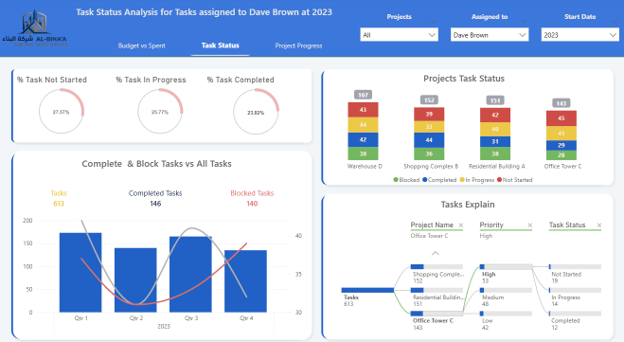

Layout of this report page (visuals, bound fields, positions):
{"tool":"powerbi","page":{"name":"Task Status","canvas":[1280,720],"ordinal":1},"visuals":[{"type":"shape","box":[0,0,1280,120],"z":0},{"type":"pageNavigator","box":[221,74.1,470.5,44.2],"z":1000},{"type":"shape","box":[20,137,612.1,166.3],"z":1000,"group":"g5"},{"type":"shape","box":[652.1,138.1,595.6,250.8],"z":1000,"group":"g2"},{"type":"shape","box":[20,304.5,612.5,399],"z":1000,"group":"g3"},{"type":"shape","box":[652.7,392.4,595.2,311.6],"z":1000,"group":"g4"},{"type":"cardVisual","fields":{"Data":["Measures_.Dynamic Task Status title"]},"box":[139.9,2.4,657.5,49.5],"z":2000},{"type":"shape","box":[23.3,135.7,627,168.3],"z":2000,"group":"g5"},{"type":"shape","box":[655.3,136.1,610.1,253.7],"z":2000,"group":"g2"},{"type":"shape","box":[23.3,301.4,627.4,403.7],"z":2000,"group":"g3"},{"type":"shape","box":[655.9,390,609.7,315.2],"z":2000,"group":"g4"},{"type":"lineClusteredColumnComboChart","fields":{"Category":["Calendar.Date.Variation.Date Hierarchy.Year","Calendar.Date.Variation.Date Hierarchy.Quarter","Calendar.Date.Variation.Date Hierarchy.Month"],"Y2":["Measures_.Completed Tasks","Measures_.# Blocked Tasks"],"Y":["Measures_.Tasks"]},"box":[48.3,439.1,579.1,252.1],"z":2000,"group":"g7"},{"type":"group","id":"g1","title":"Group 2","box":[731.7,28.3,548.3,91.7],"z":3000},{"type":"image","box":[0,0,154.7,120.9],"z":4000},{"type":"group","id":"g2","title":"Group 6","box":[652.1,136.1,613.1,253.3],"z":5000},{"type":"textbox","box":[140,318.5,372.8,42.2],"z":5000,"group":"g7"},{"type":"payPalKPIDonutChart55A431AB15A540ED924ACD72ED8D259F","fields":{"myvalue":["Measures (2).% Task Completed"]},"box":[422.8,155.7,210,132.9],"z":6000,"group":"g6"},{"type":"group","id":"g3","title":"Group 6","box":[20,301.4,630,404.3],"z":6000},{"type":"cardVisual","fields":{"Data":["Measures (2).# Tasks","Measures (2).Completed Tasks","Measures_.# Blocked Tasks"]},"box":[48.3,376.4,552.5,62.7],"z":6000,"group":"g7"},{"type":"slicer","title":"Start Date","fields":{"Values":["Calendar.Date.Variation.Date Hierarchy.Year","Calendar.Date.Variation.Date Hierarchy.Quarter","Calendar.Date.Variation.Date Hierarchy.Month"]},"box":[1101.3,28.3,178.7,91.7],"z":7000,"group":"g1"},{"type":"payPalKPIDonutChart55A431AB15A540ED924ACD72ED8D259F","fields":{"myvalue":["Measures (2).% Task In Progress"]},"box":[237,156,191,131.4],"z":7000,"group":"g6"},{"type":"group","id":"g4","title":"Group 6","box":[652.7,390,612.9,315.2],"z":7000},{"type":"slicer","title":"Assigned to","fields":{"Values":["large_construction_project_mana.Assigned To"]},"box":[916.5,28.3,178.7,91.7],"z":8000,"group":"g1"},{"type":"group","id":"g5","title":"Group 6","box":[20,135.7,630,168.6],"z":8000,"group":"g8"},{"type":"payPalKPIDonutChart55A431AB15A540ED924ACD72ED8D259F","fields":{"myvalue":["Measures (2).% Task Not Started"]},"box":[35.7,156,191,131.4],"z":8000,"group":"g6"},{"type":"decompositionTreeVisual","title":"Tasks Explain","fields":{"ExplainBy":["large_construction_project_mana.Project Name","large_construction_project_mana.Priority","large_construction_project_mana.Task Status"],"Analyze":["Measures_.Tasks"]},"box":[673.4,406,574.7,286.6],"z":9000},{"type":"slicer","title":"Projects","fields":{"Values":["large_construction_project_mana.Project Name"]},"box":[731.7,28.3,178.7,91.7],"z":9001,"group":"g1"},{"type":"columnChart","title":" Projects Task Status","fields":{"Category":["large_construction_project_mana.Project Name"],"Series":["large_construction_project_mana.Task Status"],"Y":["Measures (2).Tasks"]},"box":[657.5,149.7,590.6,238.8],"z":10000},{"type":"group","id":"g6","title":"Group 1","box":[35.7,155.7,597.1,132.9],"z":11000,"group":"g8"},{"type":"group","id":"g7","title":"Group 3","box":[48.3,318.5,579.1,372.8],"z":12000},{"type":"group","id":"g8","title":"Group 4","box":[20,135.7,630,168.6],"z":12001}]}

Visuals, with their boxes in screenshot pixels (x1, y1, x2, y2), scaled from the page's 1280x720 canvas onto the 624x342 screenshot:
shape: bbox=(0, 0, 623, 57)
pageNavigator: bbox=(108, 35, 337, 56)
shape: bbox=(10, 65, 308, 144)
shape: bbox=(318, 66, 608, 185)
shape: bbox=(10, 145, 308, 334)
shape: bbox=(318, 186, 608, 334)
cardVisual - Measures_.Dynamic Task Status title: bbox=(68, 1, 389, 25)
shape: bbox=(11, 64, 317, 144)
shape: bbox=(319, 65, 617, 185)
shape: bbox=(11, 143, 317, 335)
shape: bbox=(320, 185, 617, 335)
lineClusteredColumnComboChart - Calendar.Date.Variation.Date Hierarchy.Year x Calendar.Date.Variation.Date Hierarchy.Quarter: bbox=(24, 209, 306, 328)
"Group 2" group: bbox=(357, 13, 623, 57)
image: bbox=(0, 0, 75, 57)
"Group 6" group: bbox=(318, 65, 617, 185)
textbox: bbox=(68, 151, 250, 171)
payPalKPIDonutChart55A431AB15A540ED924ACD72ED8D259F - Measures (2).% Task Completed: bbox=(206, 74, 308, 137)
"Group 6" group: bbox=(10, 143, 317, 335)
cardVisual - Measures (2).# Tasks x Measures (2).Completed Tasks: bbox=(24, 179, 293, 209)
"Start Date" slicer: bbox=(537, 13, 623, 57)
payPalKPIDonutChart55A431AB15A540ED924ACD72ED8D259F - Measures (2).% Task In Progress: bbox=(116, 74, 209, 137)
"Group 6" group: bbox=(318, 185, 617, 335)
"Assigned to" slicer: bbox=(447, 13, 534, 57)
"Group 6" group: bbox=(10, 64, 317, 145)
payPalKPIDonutChart55A431AB15A540ED924ACD72ED8D259F - Measures (2).% Task Not Started: bbox=(17, 74, 111, 137)
"Tasks Explain" decompositionTreeVisual: bbox=(328, 193, 608, 329)
"Projects" slicer: bbox=(357, 13, 444, 57)
" Projects Task Status" columnChart: bbox=(321, 71, 608, 185)
"Group 1" group: bbox=(17, 74, 308, 137)
"Group 3" group: bbox=(24, 151, 306, 328)
"Group 4" group: bbox=(10, 64, 317, 145)
